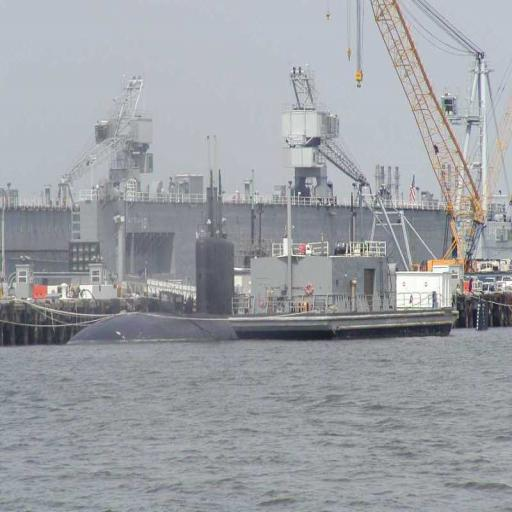submarine: (69, 172, 332, 343)
